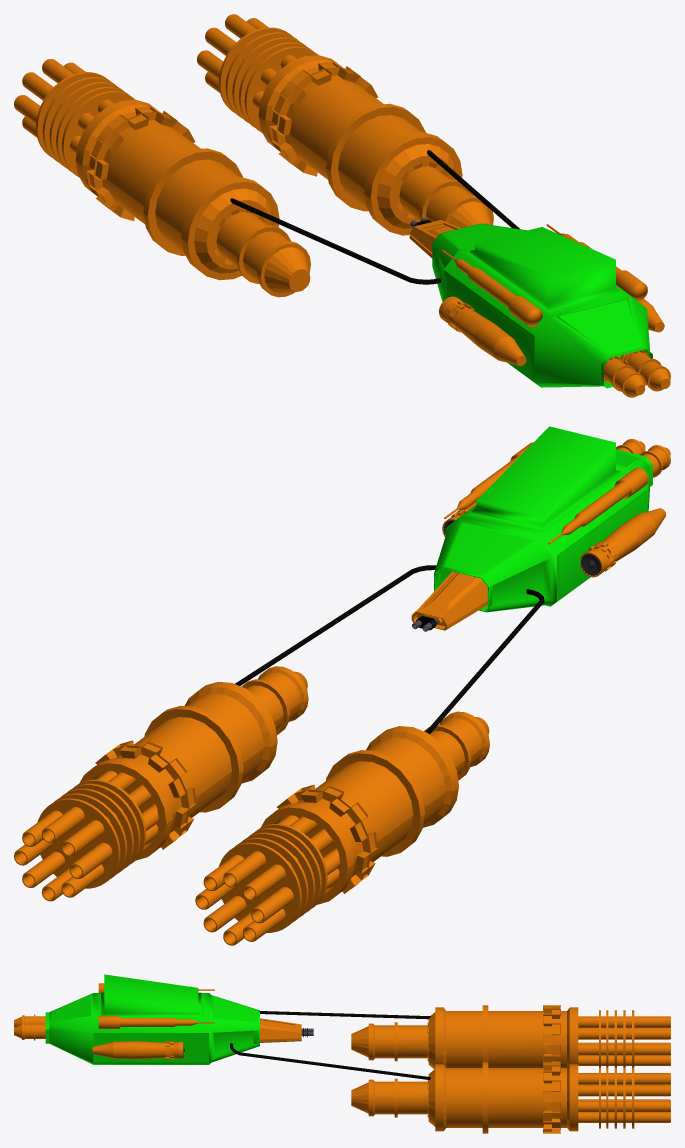
File: GreenPod.fbx
3 views of the same model, one above another, from view 1: azimuth 30°, elevation 25°; view 2: azimuth 150°, elevation 25°; view 3: azimuth 270°, elevation 25° (orthographic). The views are drawn at different scales.
Parts seen in each view (by area): view 1: polySurface113, polySurface145, polySurface129, polySurface148, polySurface147, polySurface163, polySurface164, polySurface122, polySurface138, polySurface165, polySurface153, polySurface152 (+17 smaller); view 2: polySurface113, polySurface129, polySurface145, polySurface155, polySurface147, polySurface148, polySurface144, polySurface128, polySurface163, polySurface164, polySurface146, polySurface118 (+19 smaller); view 3: polySurface113, polySurface129, polySurface145, polySurface148, polySurface147, polySurface151, polySurface136, polySurface115, polySurface120, polySurface117, polySurface133, polySurface154 (+8 smaller).
Boxes of the visible parts, x1,y1,x2,y2 form: polySurface113: [432, 223, 652, 388]; polySurface145: [75, 99, 279, 280]; polySurface129: [258, 55, 462, 235]; polySurface148: [212, 208, 310, 297]; polySurface147: [395, 162, 493, 228]; polySurface163: [439, 296, 526, 366]; polySurface164: [441, 249, 542, 327]; polySurface122: [244, 46, 317, 132]; polySurface138: [62, 91, 134, 177]; polySurface165: [230, 198, 440, 284]; polySurface153: [601, 356, 645, 397]; polySurface152: [620, 350, 670, 391]; polySurface113: [434, 426, 652, 612]; polySurface129: [79, 682, 277, 860]; polySurface145: [261, 726, 458, 904]; polySurface155: [411, 571, 487, 630]; polySurface147: [241, 666, 308, 735]; polySurface148: [424, 711, 489, 780]; polySurface144: [219, 842, 301, 932]; polySurface128: [37, 798, 120, 888]; polySurface163: [580, 508, 665, 577]; polySurface164: [548, 467, 648, 544]; polySurface146: [235, 565, 436, 685]; polySurface118: [61, 784, 152, 856]; polySurface113: [45, 974, 259, 1064]; polySurface129: [428, 1062, 578, 1133]; polySurface145: [428, 1005, 578, 1069]; polySurface148: [351, 1022, 428, 1061]; polySurface147: [351, 1078, 428, 1117]; polySurface151: [92, 1041, 183, 1059]; polySurface136: [578, 1028, 670, 1039]; polySurface115: [578, 1073, 670, 1084]; polySurface120: [578, 1085, 670, 1096]; polySurface117: [578, 1101, 670, 1112]; polySurface133: [578, 1044, 670, 1055]; polySurface154: [98, 1016, 214, 1028].
Size of the model in its own units: 3.34 by 2.08 by 10.62.
